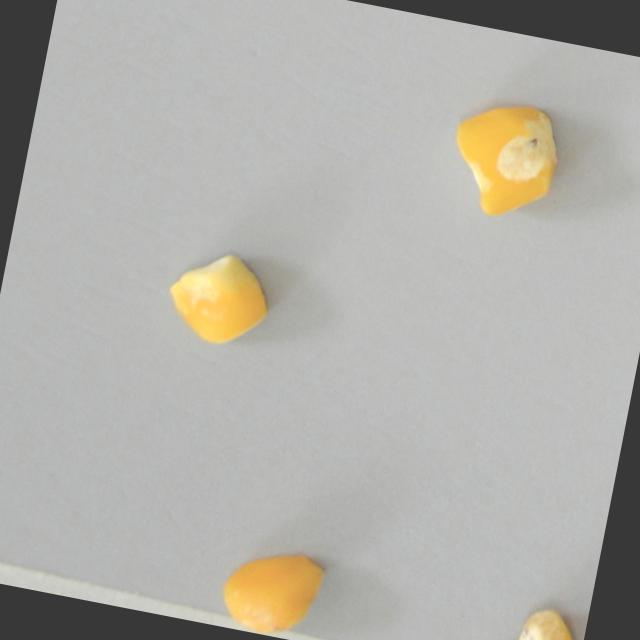dañado: (435, 84, 570, 229), (211, 534, 335, 640), (477, 586, 590, 640)
pelicula: (157, 238, 282, 357)
